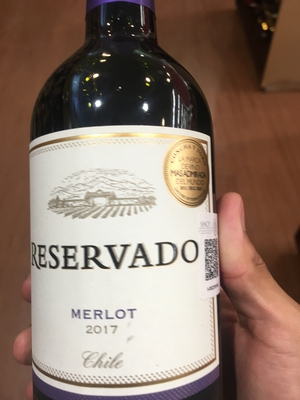reservado merlot: (27, 18, 231, 398)
